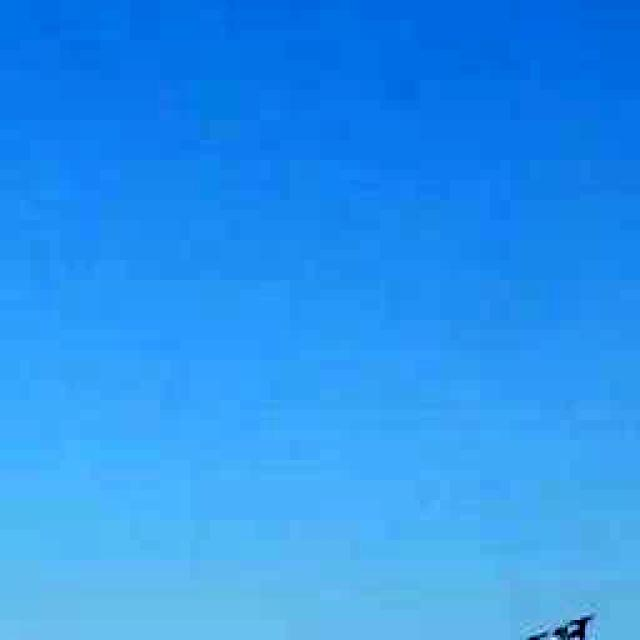bird: (505, 602, 608, 640)
